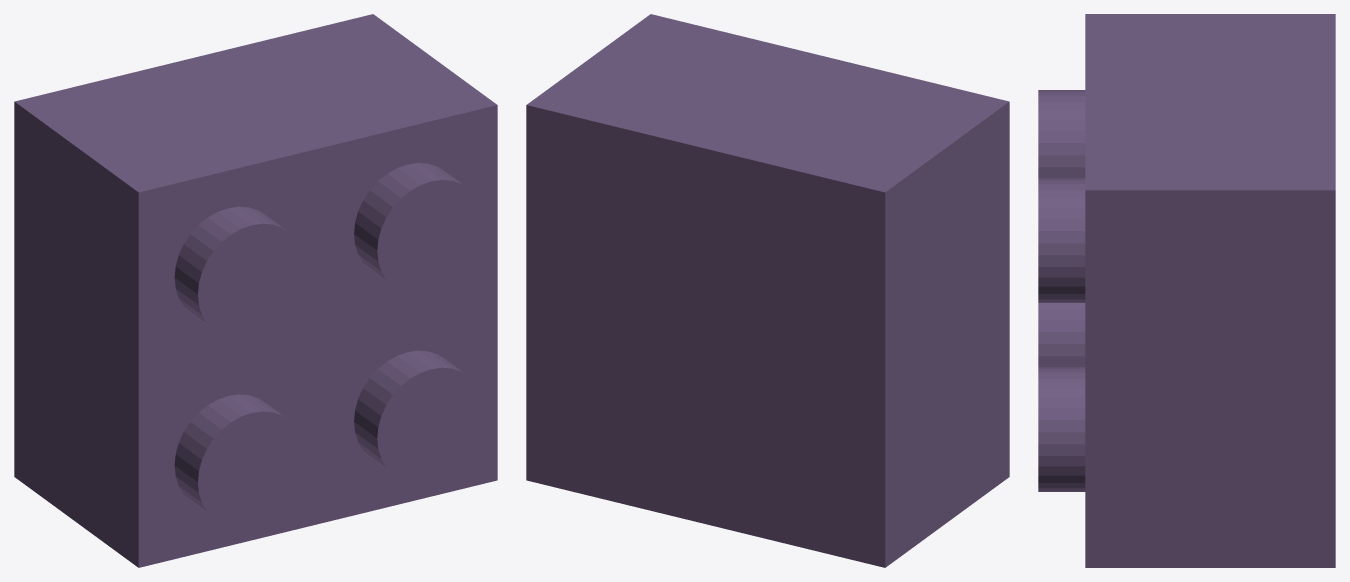
Rendered from brick_3.glb.
3 views of the same model, side by side, from view 1: azimuth 30°, elevation 25°; view 2: azimuth 150°, elevation 25°; view 3: azimuth 270°, elevation 25° (orthographic).
Visible parts, largest first — view 1: world; view 2: world; view 3: world.
Part boxes in pixels (x1,y1,x2,y2): world: (14, 14, 497, 567); world: (526, 14, 1009, 567); world: (1038, 14, 1335, 567).
Size of the model in its own units: 16 by 16 by 11.4.
